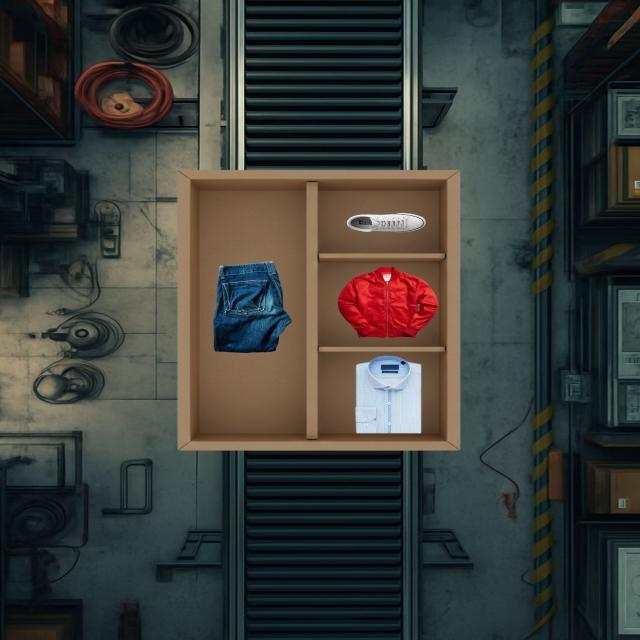jacket: (338, 267, 438, 338)
shirt: (356, 356, 420, 434)
sneaker: (347, 213, 425, 232)
trousers: (213, 262, 291, 353)
